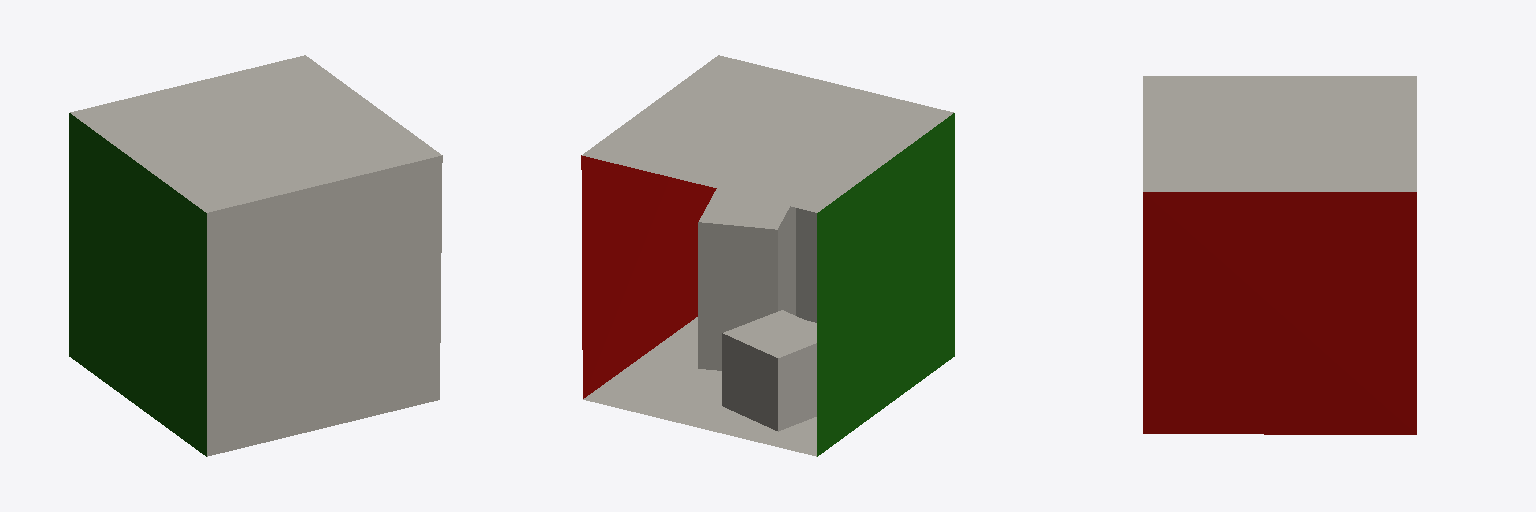
The model's file is cornell-simple.obj.
The picture shows the model from 3 angles: view 1: azimuth 30°, elevation 25°; view 2: azimuth 150°, elevation 25°; view 3: azimuth 270°, elevation 25°; orthographic projection.
Visible parts, largest first — view 1: floor, right; view 2: floor, right, left, tall-box, short-box; view 3: left, floor.
Part boxes in pixels (left/top/right/bottom): floor: left=70, top=55, right=442, bottom=456; right: left=69, top=113, right=206, bottom=456; floor: left=582, top=55, right=953, bottom=456; right: left=817, top=113, right=954, bottom=456; left: left=581, top=155, right=716, bottom=398; tall-box: left=698, top=189, right=795, bottom=370; short-box: left=722, top=310, right=816, bottom=431; left: left=1143, top=192, right=1416, bottom=434; floor: left=1143, top=76, right=1416, bottom=191.
Size of the model in its own units: 556 by 549 by 559.